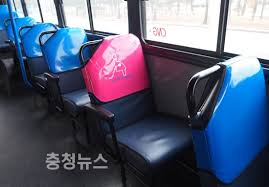seat: (84, 36, 188, 174)
